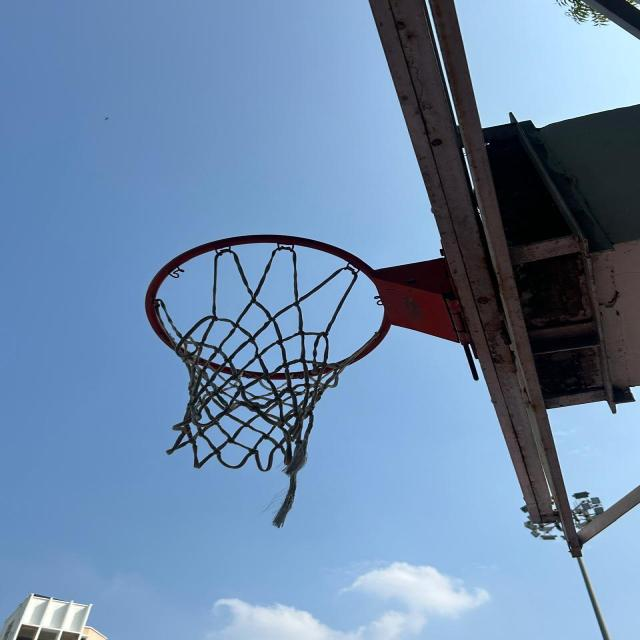hoop: (152, 223, 414, 480)
